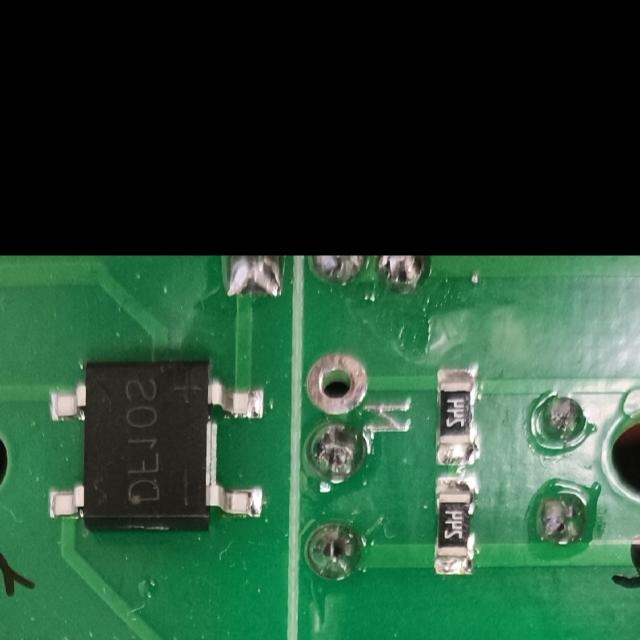chip-resistor: (432, 364, 480, 466), (430, 475, 474, 578)
ic: (43, 356, 268, 536)
